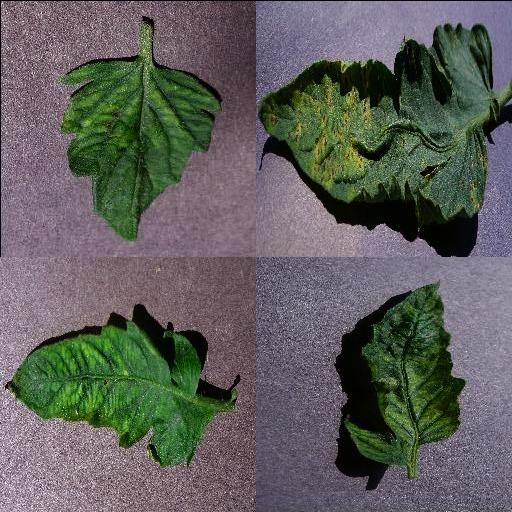Mosaic Virus: (4, 317, 216, 469), (58, 57, 222, 243), (343, 278, 467, 466)
Septoria: (258, 20, 494, 220)
